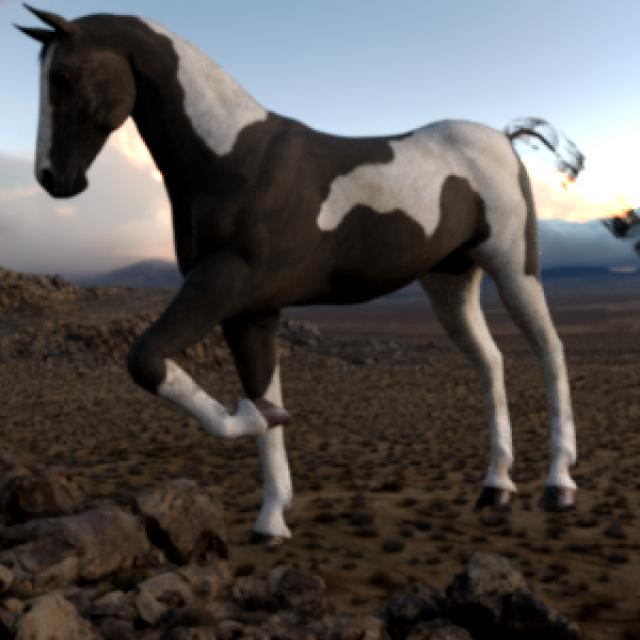horse: (19, 6, 584, 539)
